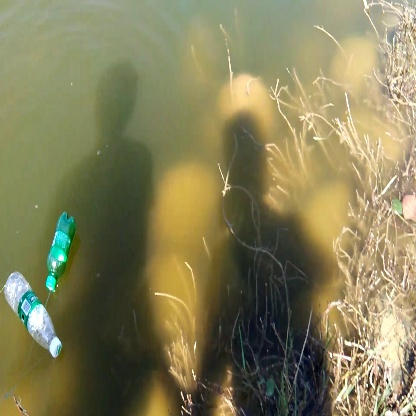bottle: (3, 270, 67, 359), (42, 211, 79, 291)
